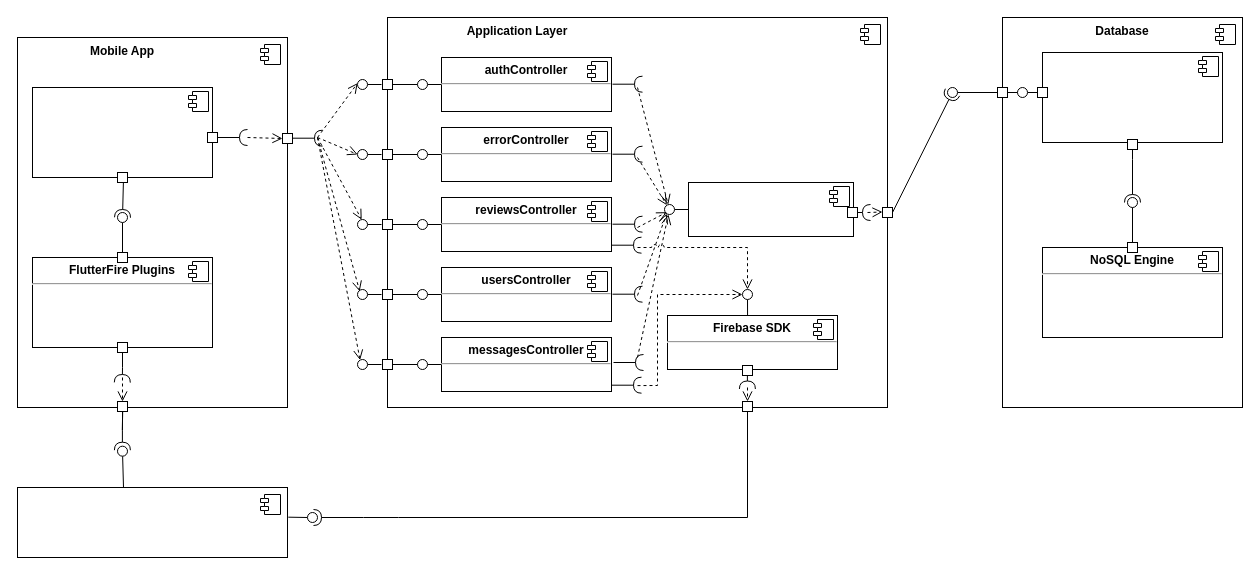
Some shapes in this 1260 by 575 pixel diagram are drawn without their labels. Here are the shapes that lost their labels. From the top down, the box of each, then its label:
(1042, 52, 1222, 142): DBMS
(32, 86, 212, 178): Flutter App
(688, 182, 854, 236): Mongoose
(16, 486, 288, 558): Firebase
